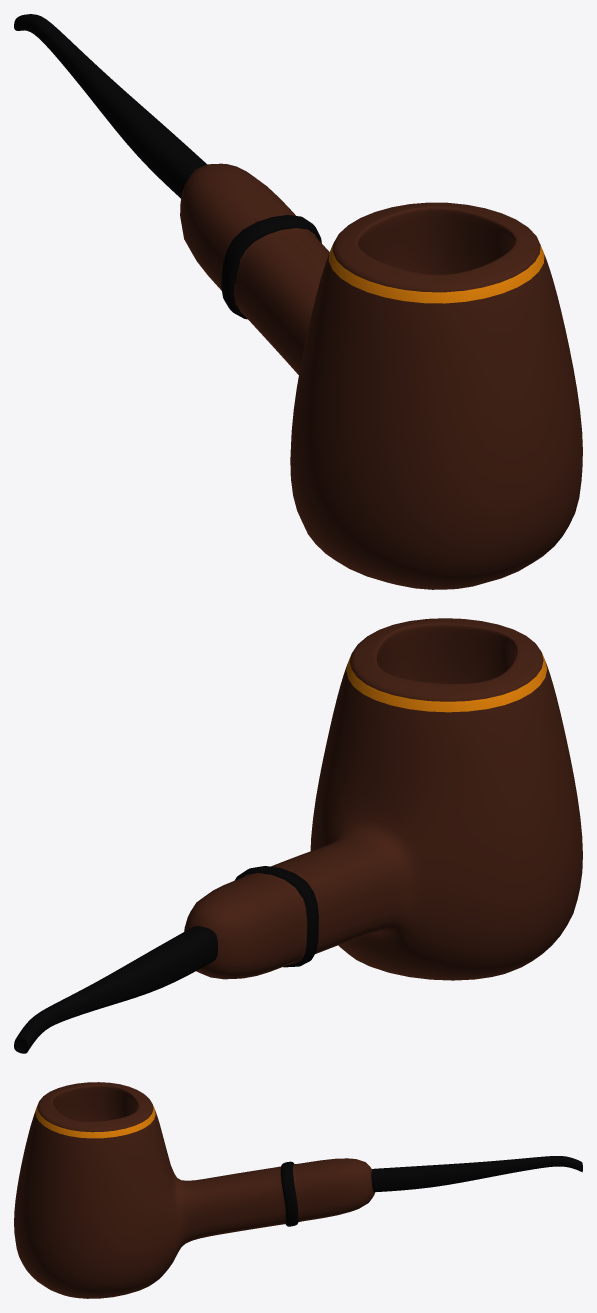
Rendered from pipe.fbx.
The picture shows the model from 3 angles, top to bottom: view 1: azimuth 30°, elevation 25°; view 2: azimuth 150°, elevation 25°; view 3: azimuth 270°, elevation 25°; orthographic projection. The views are drawn at different scales.
Visible parts, largest first — view 1: Cube; view 2: Cube; view 3: Cube.
Boxes of the visible parts, bbox=[...] form: Cube: bbox=[14, 14, 582, 589]; Cube: bbox=[14, 618, 582, 1053]; Cube: bbox=[14, 1082, 582, 1298].
Bounding box in the file's own units: 153 × 187 × 533.
